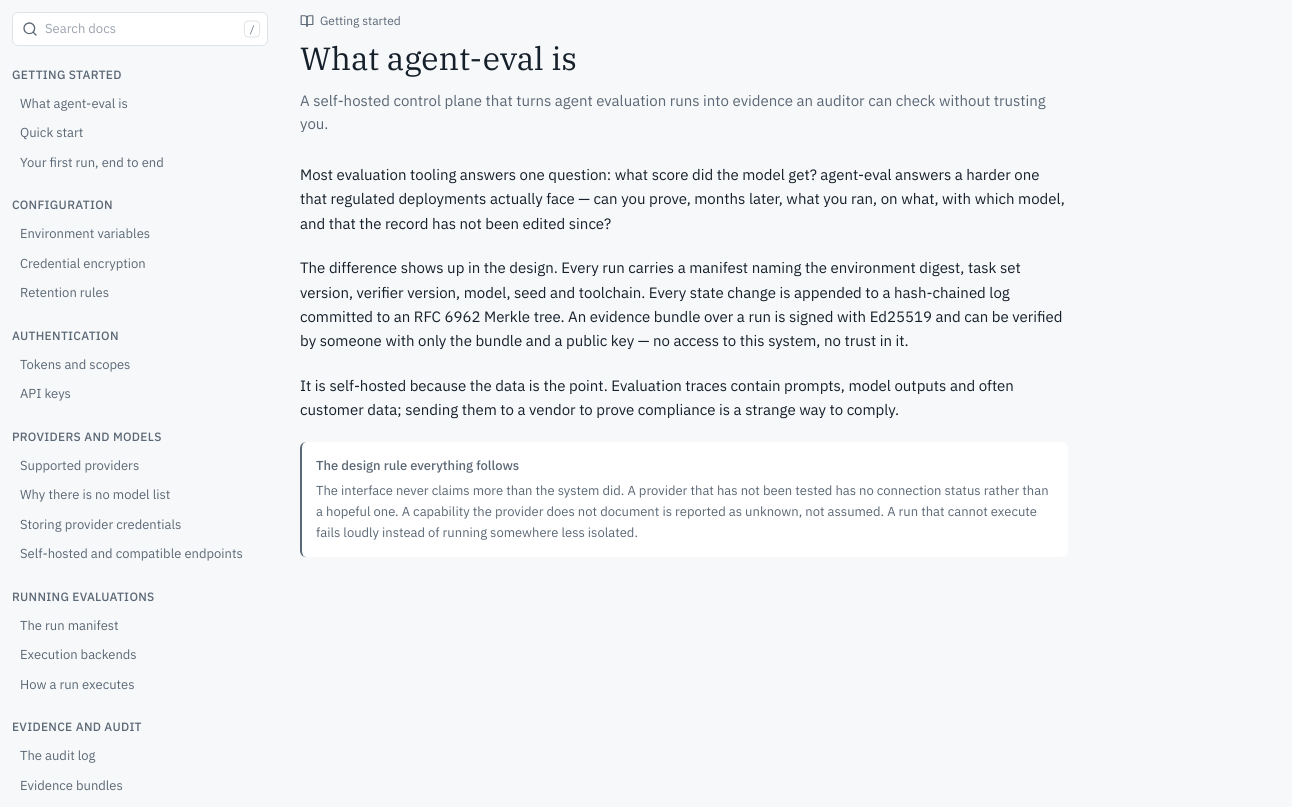
Test: docs page › ranks a title match above a passing mention
The width and height of the screenshot is (1292, 807).
Type "retention" into the search field named "Search documentation" at (140,29), box [12,12,268,46]
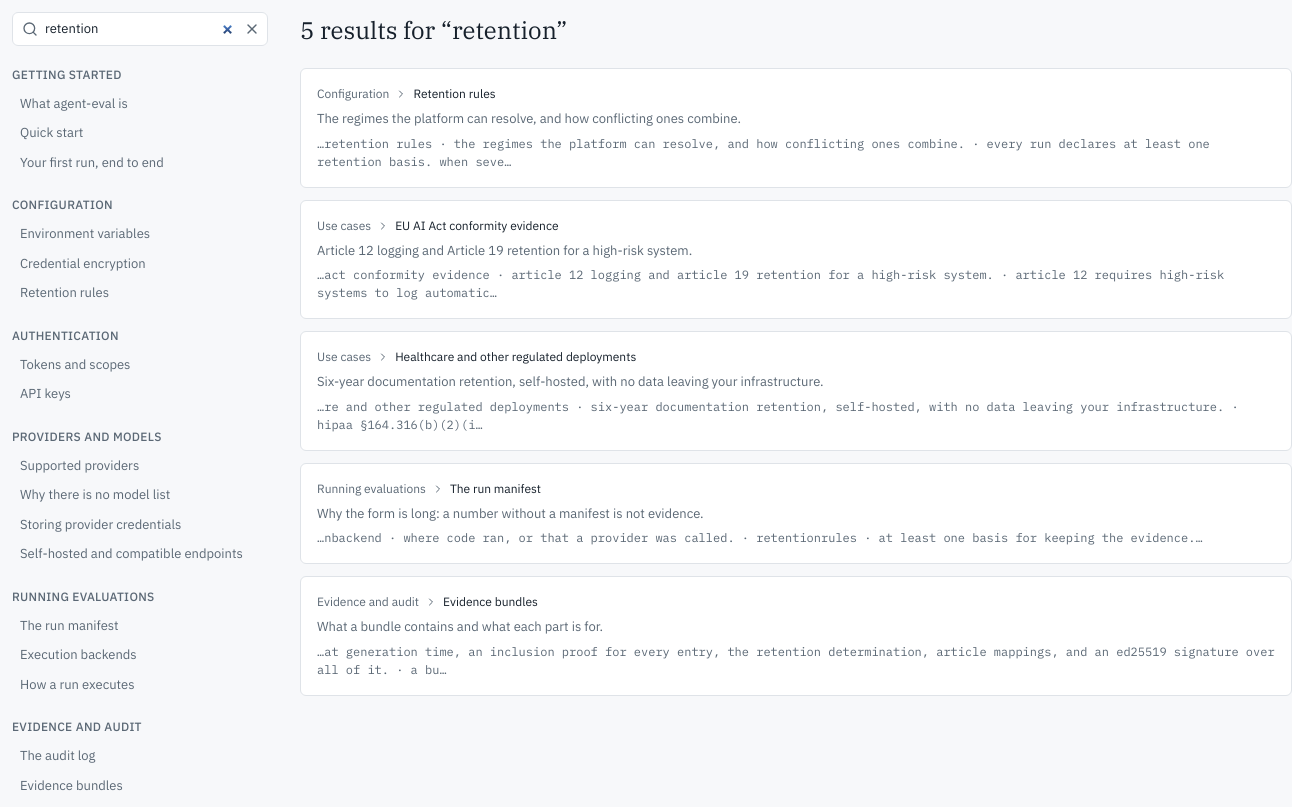
expect the link that starts with "Configuration" shows "Retention rules": met, box [300,68,1291,188]
